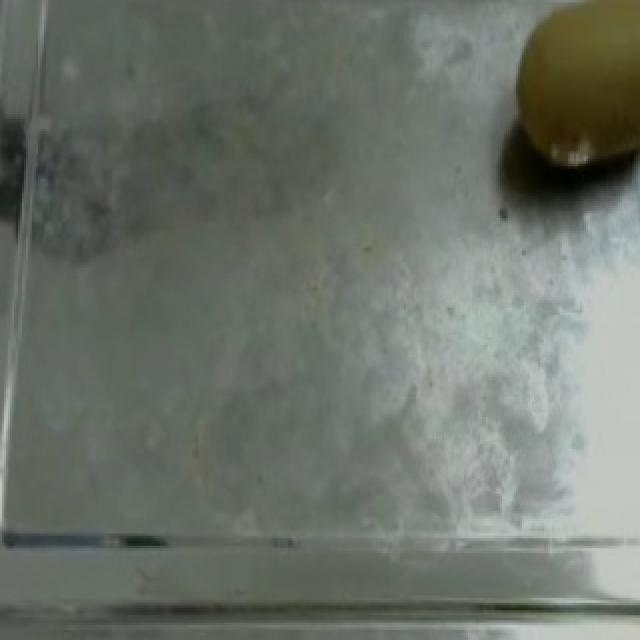Fruit: (482, 0, 640, 193)
